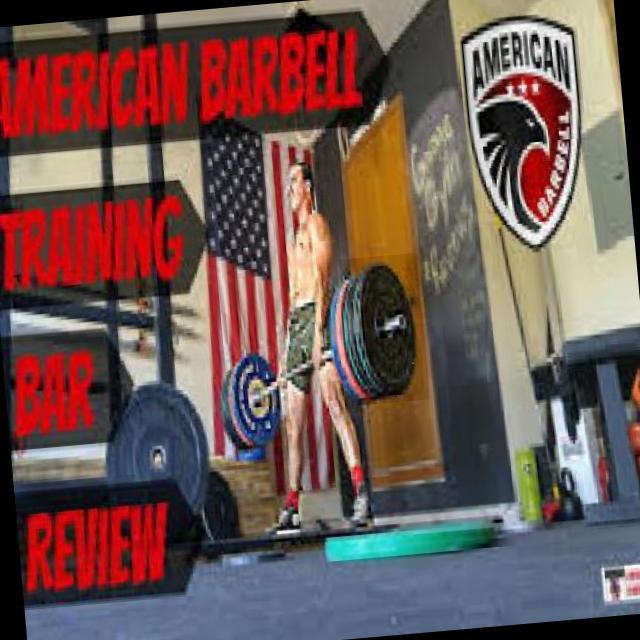barbell: (340, 254, 431, 407)
